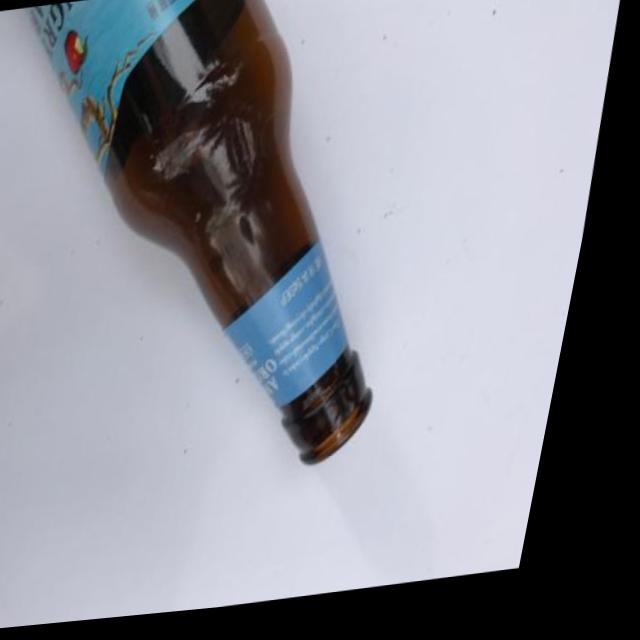glass: (0, 0, 511, 578)
